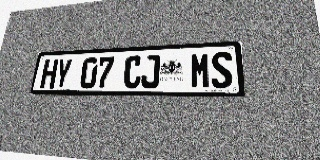0: (79, 57, 99, 89)
7: (95, 57, 114, 88)
C: (123, 55, 142, 88)
H: (40, 59, 59, 89)
J: (141, 54, 160, 88)
M: (190, 52, 211, 88)
S: (211, 51, 233, 88)
Y: (54, 58, 73, 89)
